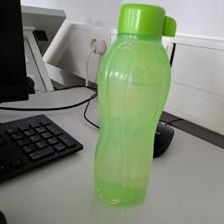bottle: (89, 3, 178, 209)
